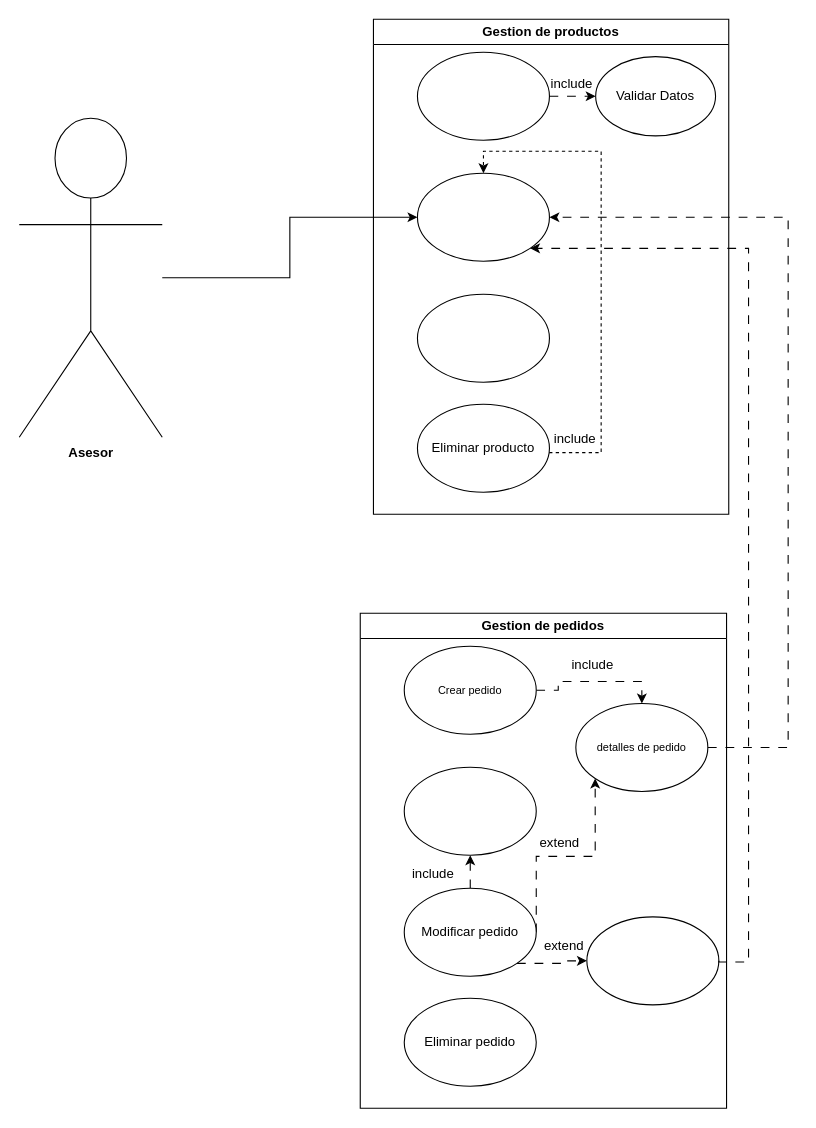
Image size: 816x1128. Some labels were removed from this diagram. The shapes that lost their labels are listed below. From the top down, each one's centre as x and y in pixels, then its label:
At (482,95): "Crear producto".
At (482,216): "Consultar producto".
At (482,337): "Modificar producto".
At (469,810): "Consultar Pedido".
At (652,960): "Quitar detlles".
